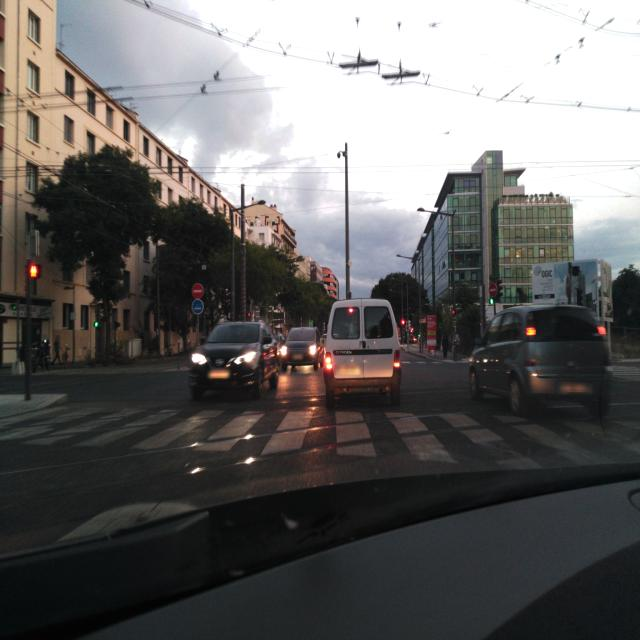car: (468, 302, 612, 419), (323, 297, 402, 409), (188, 320, 280, 401), (280, 326, 323, 371)
